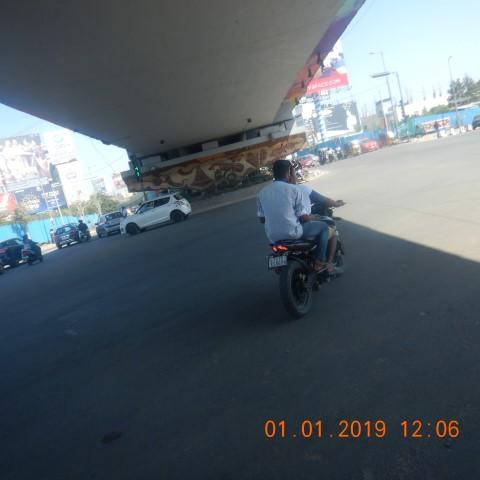plate: (267, 254, 289, 270)
